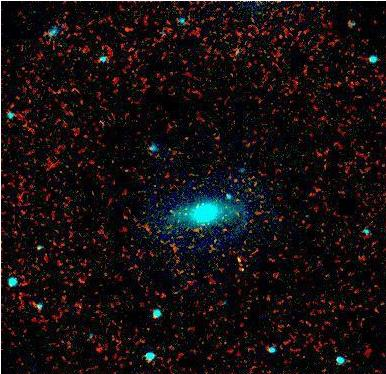star: (231, 250, 261, 280)
